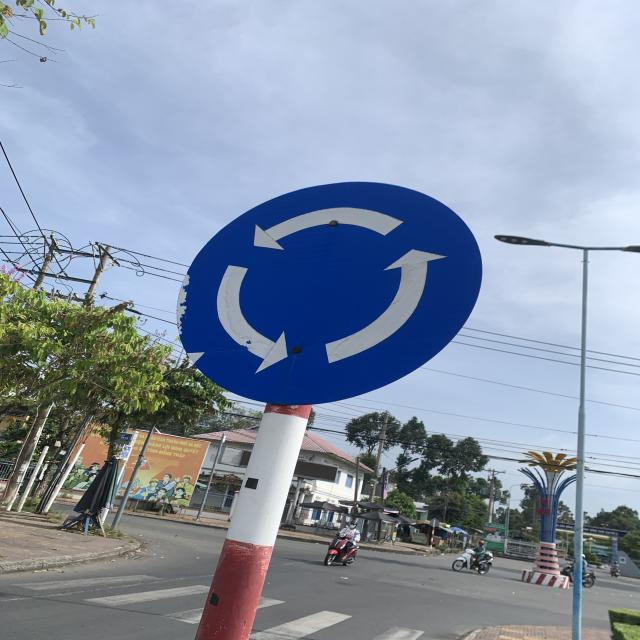Xe_Bus: (176, 182, 484, 405)
